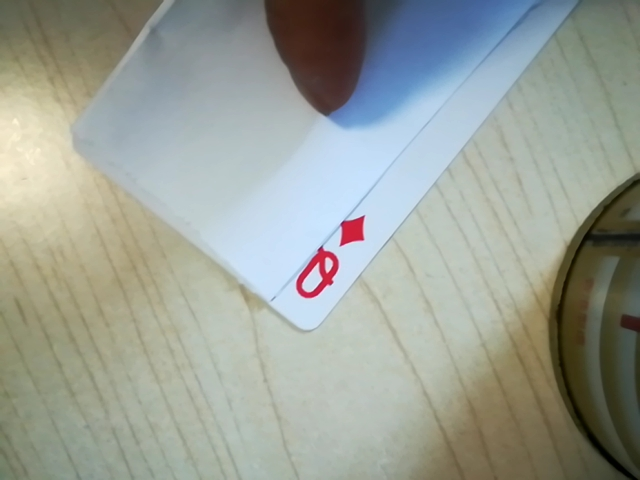fk q: (281, 212, 367, 309)
